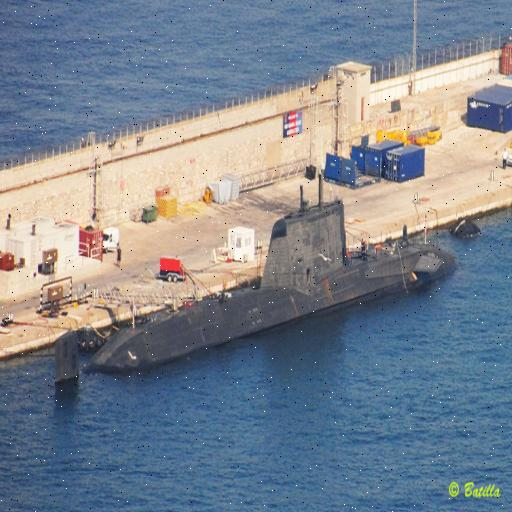submarine: (53, 197, 456, 384)
